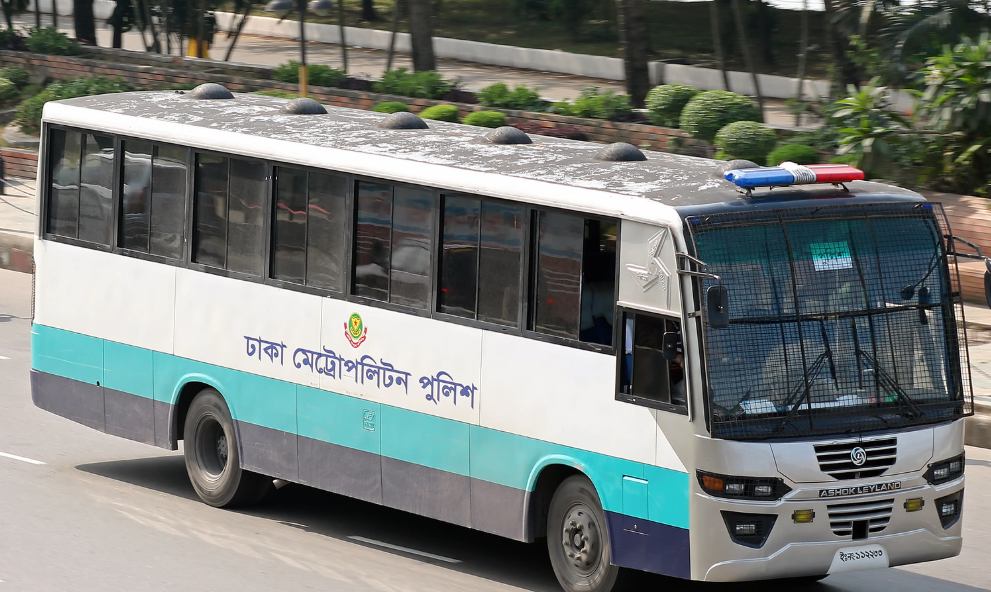Police cars: (25, 64, 974, 583)
